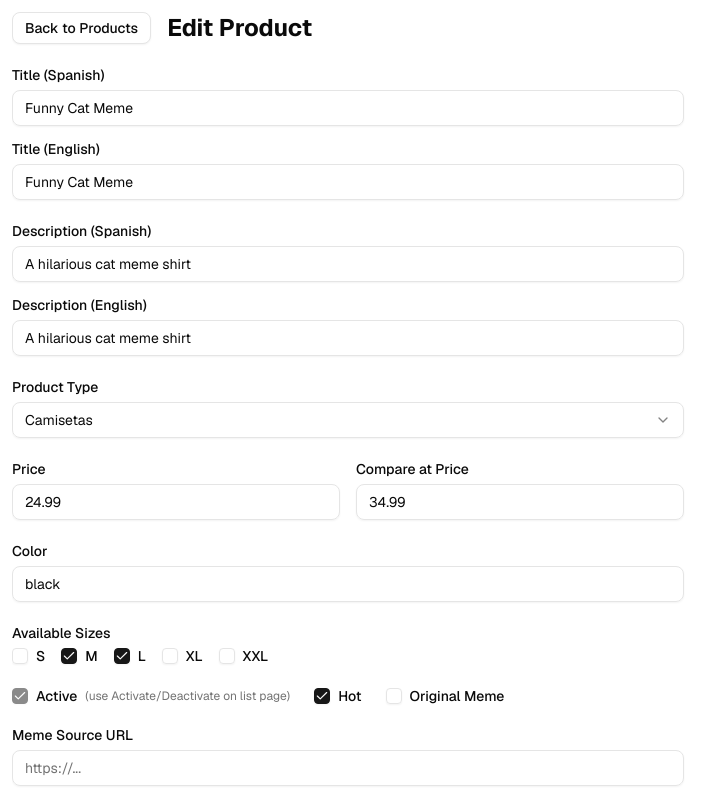
Scenario: ProductForm › edit mode › should show priceChangeReason field when price changes
Check: the field labelled "price change reason" is not shown
Change price
Replace the text in the number field labelled "Price" with "39.99" at (176, 502), box [12,484,340,520]
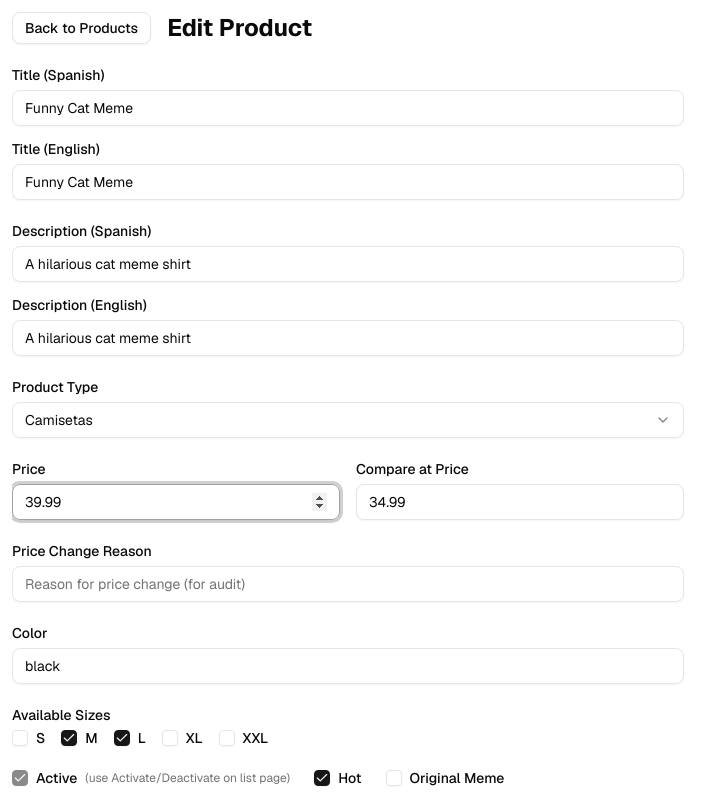
Check: the field labelled "Price Change Reason" is shown, box [12,566,684,602]
